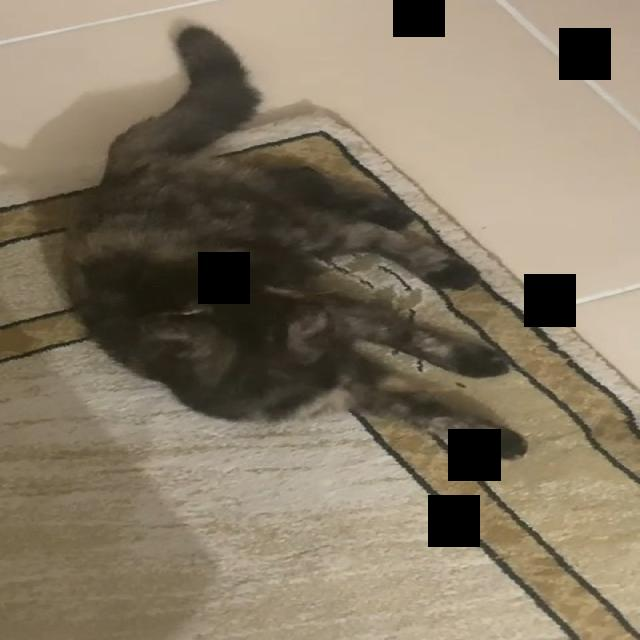authorized: (62, 18, 530, 462)
